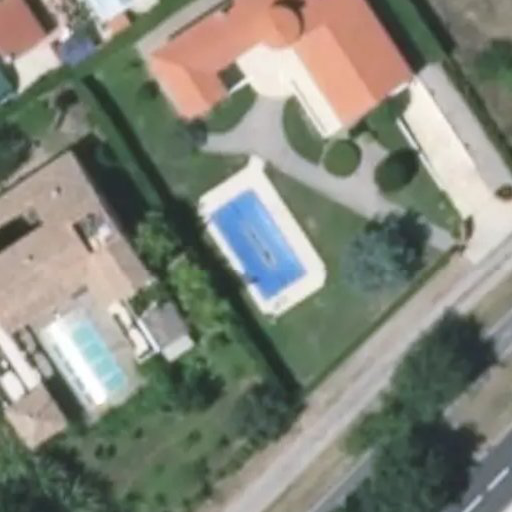pool: (206, 192, 315, 301), (53, 317, 132, 403)
